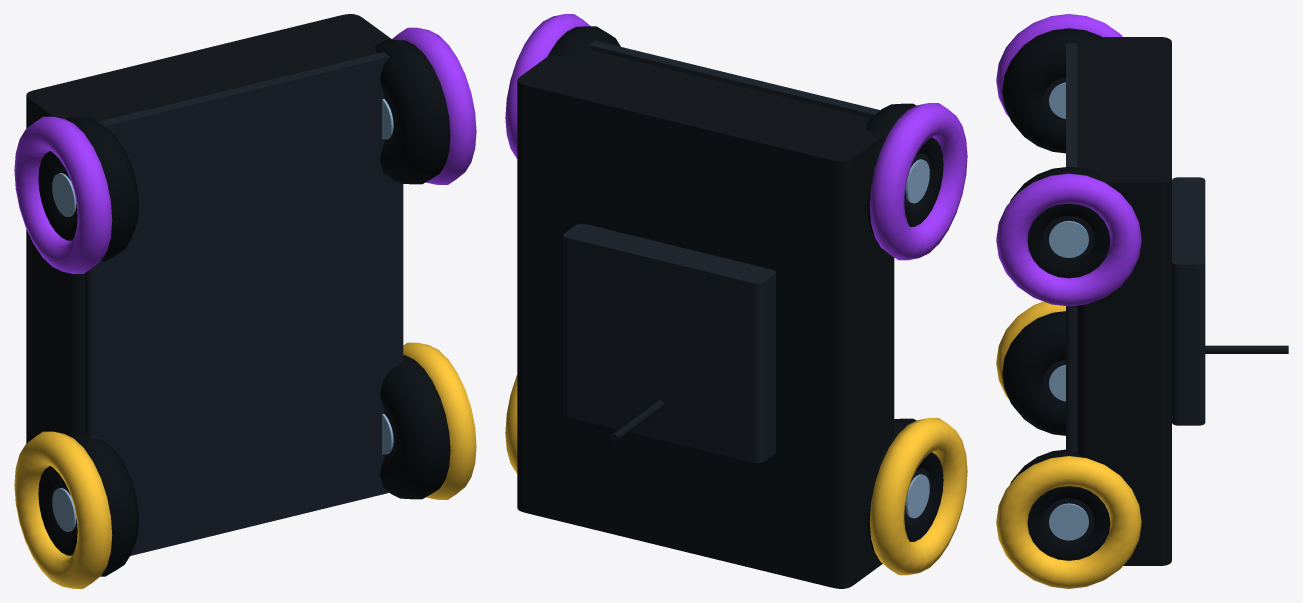
The model's file is rover_4.obj.
3 views of the same model, side by side, from view 1: azimuth 30°, elevation 25°; view 2: azimuth 150°, elevation 25°; view 3: azimuth 270°, elevation 25° (orthographic). The views are drawn at different scales.
Visible parts, largest first — view 1: body_mid_1, body_dark_0, leg_dark_3, purple_metal_6, yellow_metal_5, motor_silver_4, motor_dark_2; view 2: body_dark_0, body_mid_1, purple_metal_6, yellow_metal_5, leg_dark_3, motor_silver_4, motor_dark_2; view 3: body_dark_0, leg_dark_3, purple_metal_6, body_mid_1, yellow_metal_5, motor_silver_4, motor_dark_2.
Part boxes in pixels (x1,y1,x2,y2): body_mid_1: (84, 52, 403, 555); body_dark_0: (26, 14, 392, 443); leg_dark_3: (38, 40, 450, 576); purple_metal_6: (14, 27, 476, 273); yellow_metal_5: (14, 342, 476, 588); motor_silver_4: (52, 99, 393, 531); motor_dark_2: (51, 93, 396, 537); body_dark_0: (517, 50, 893, 588); body_mid_1: (563, 40, 894, 463); purple_metal_6: (505, 14, 967, 260); yellow_metal_5: (505, 375, 967, 575); leg_dark_3: (548, 26, 943, 557); motor_silver_4: (905, 159, 929, 518); motor_dark_2: (610, 153, 930, 523); body_dark_0: (1077, 37, 1171, 565); leg_dark_3: (1002, 28, 1110, 560); purple_metal_6: (996, 14, 1141, 306); body_mid_1: (1066, 43, 1205, 451); yellow_metal_5: (996, 301, 1141, 588); motor_silver_4: (1049, 82, 1088, 540); motor_dark_2: (1043, 77, 1288, 544).
Bounding box in the file's own units: 0.3678 × 0.4108 × 0.2629.
